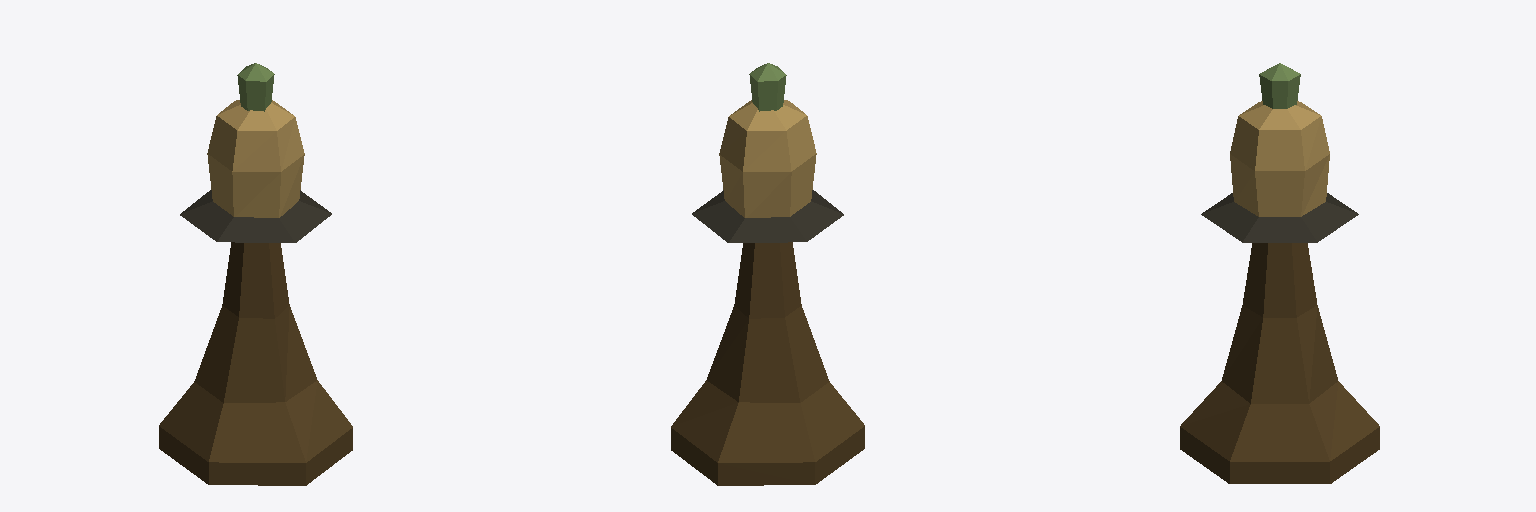
Rendered from BishopW.obj.
3 renders of one model, left to right at view 1: azimuth 30°, elevation 25°; view 2: azimuth 150°, elevation 25°; view 3: azimuth 270°, elevation 25°, orthographic.
Visible parts, largest first — view 1: BishopW; view 2: BishopW; view 3: BishopW.
Boxes of the visible parts, x1=… form: BishopW: x1=159, y1=63, x2=352, y2=485; BishopW: x1=671, y1=63, x2=864, y2=485; BishopW: x1=1180, y1=63, x2=1379, y2=483.
Bounding box in the file's own units: 1.89 × 4.82 × 2.27.